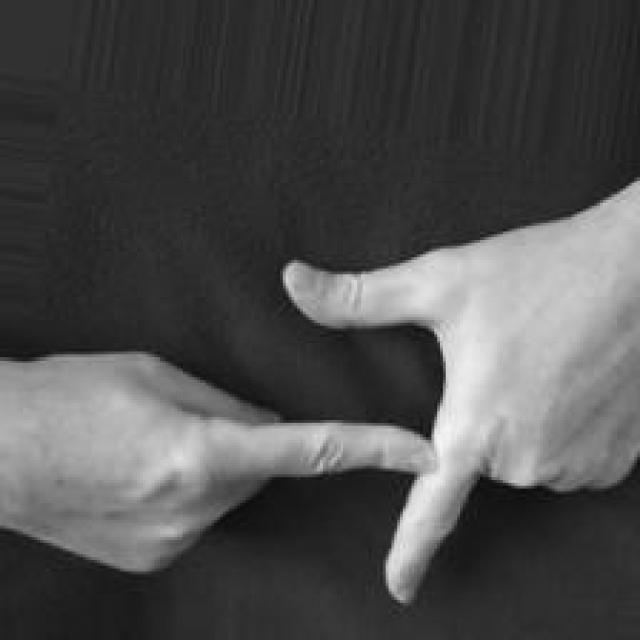F: (73, 251, 640, 608)
